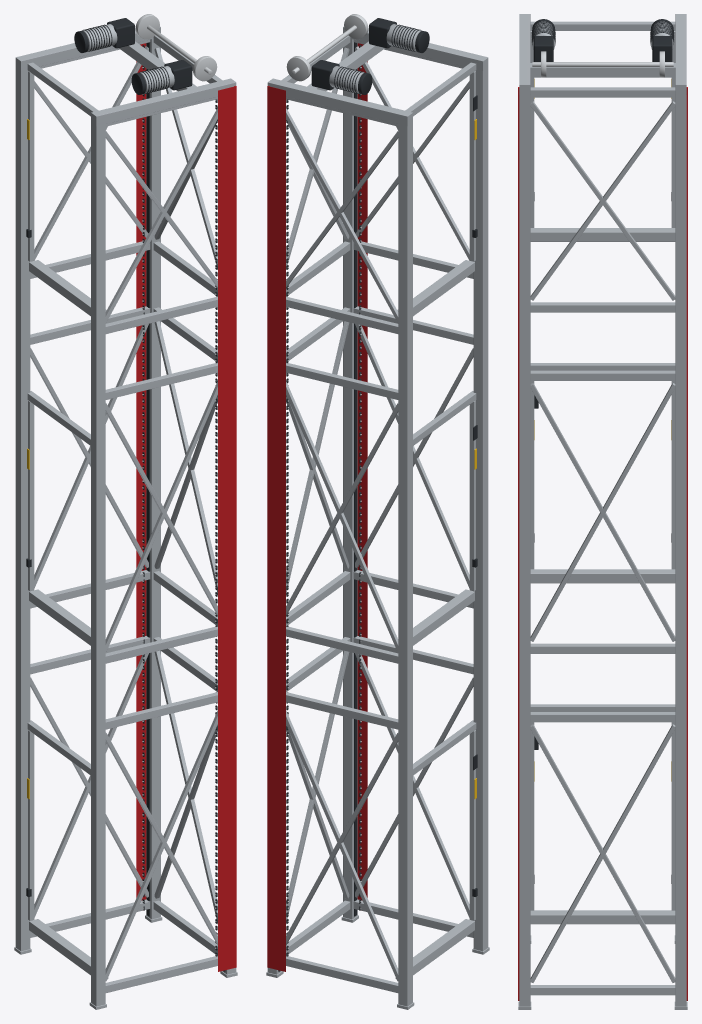
File: SM_PalletLift_Frame.fbx
3 views of the same model, side by side, from view 1: azimuth 30°, elevation 25°; view 2: azimuth 150°, elevation 25°; view 3: azimuth 270°, elevation 25° (orthographic). The views are drawn at different scales.
Parts seen in each view (by area): view 1: SM_PalletLift_Frame; view 2: SM_PalletLift_Frame; view 3: SM_PalletLift_Frame.
Part boxes in pixels (box(x1,y1,x2,y2)): SM_PalletLift_Frame: box(14, 14, 237, 1009); SM_PalletLift_Frame: box(266, 14, 489, 1009); SM_PalletLift_Frame: box(518, 14, 687, 1009).
Bounding box in the file's own units: 1.8 × 1.81 × 11.1.
